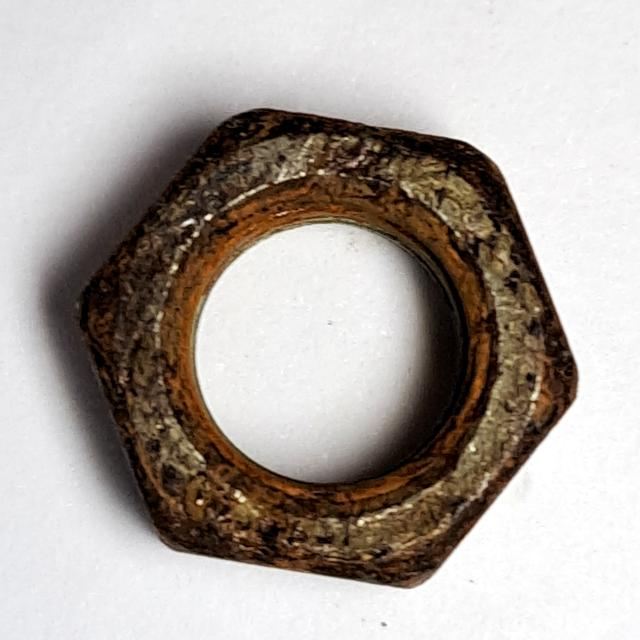Rust: (66, 92, 587, 608)
